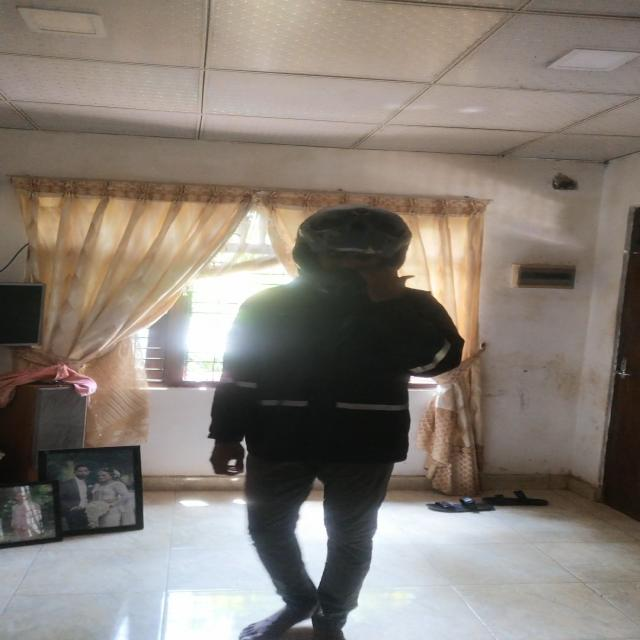Helmet_Wearer: (268, 202, 418, 311)
Jacket_Wearer: (209, 272, 468, 492)
Person: (213, 191, 468, 640)
